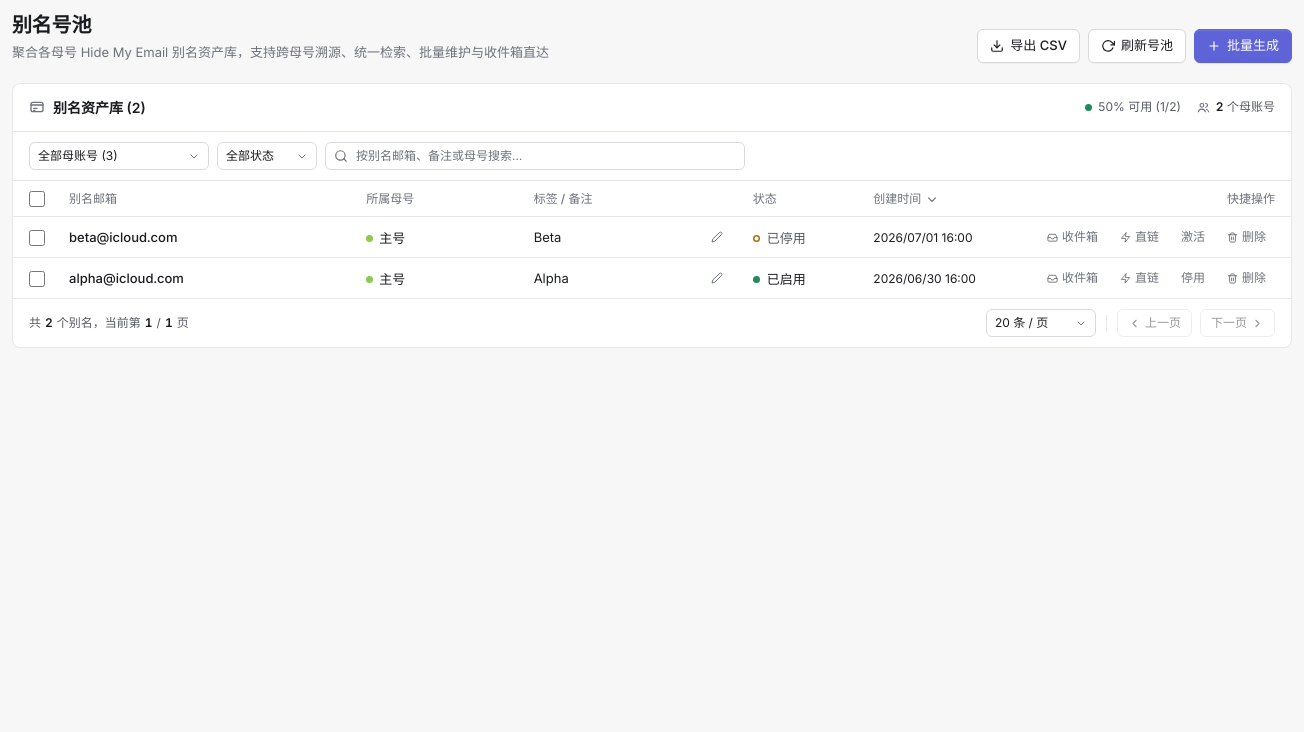
AliasesPage › 点击刷新号池重新拉取最新别名列表
The image size is (1304, 732).
Expected: the text "alpha@icloud.com" is shown, 69,269 -> 184,288
Click the button "刷新号池" at (1137, 46), box 1088,29 -> 1186,63
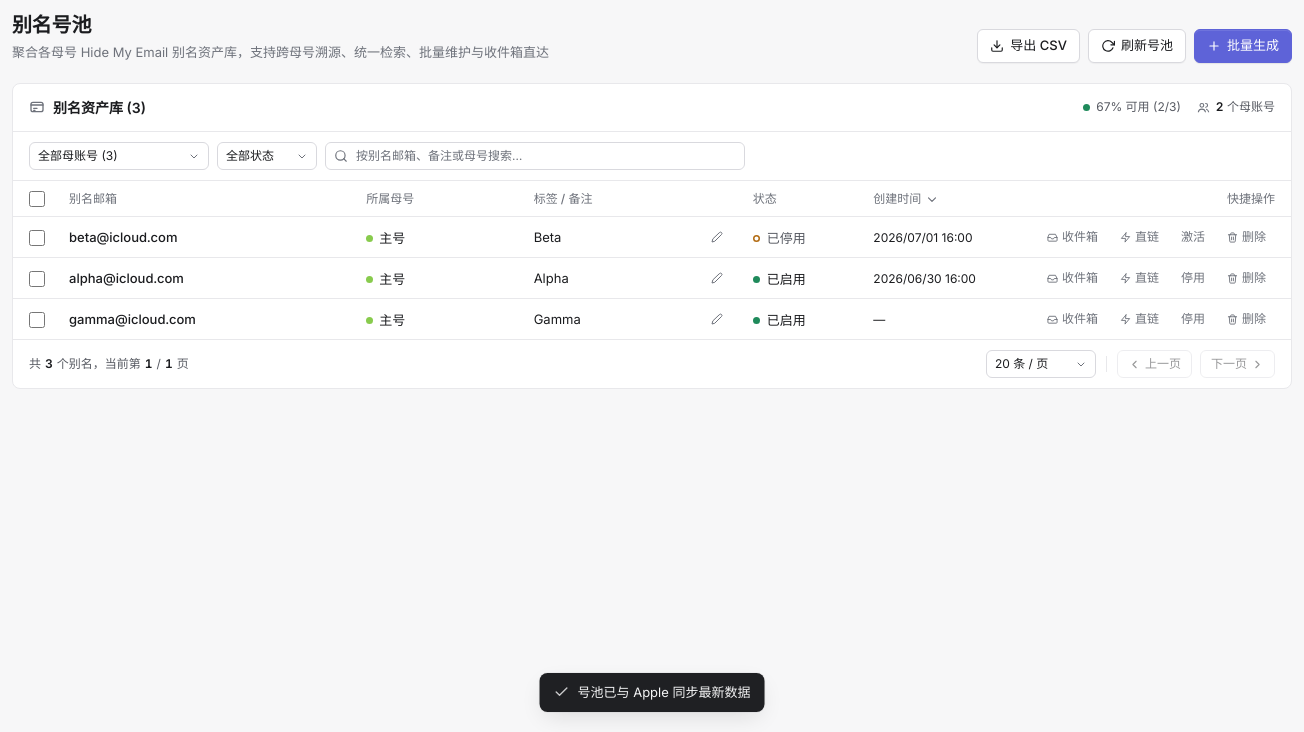
Now the text "gamma@icloud.com" is shown, box 69,310 -> 196,329
